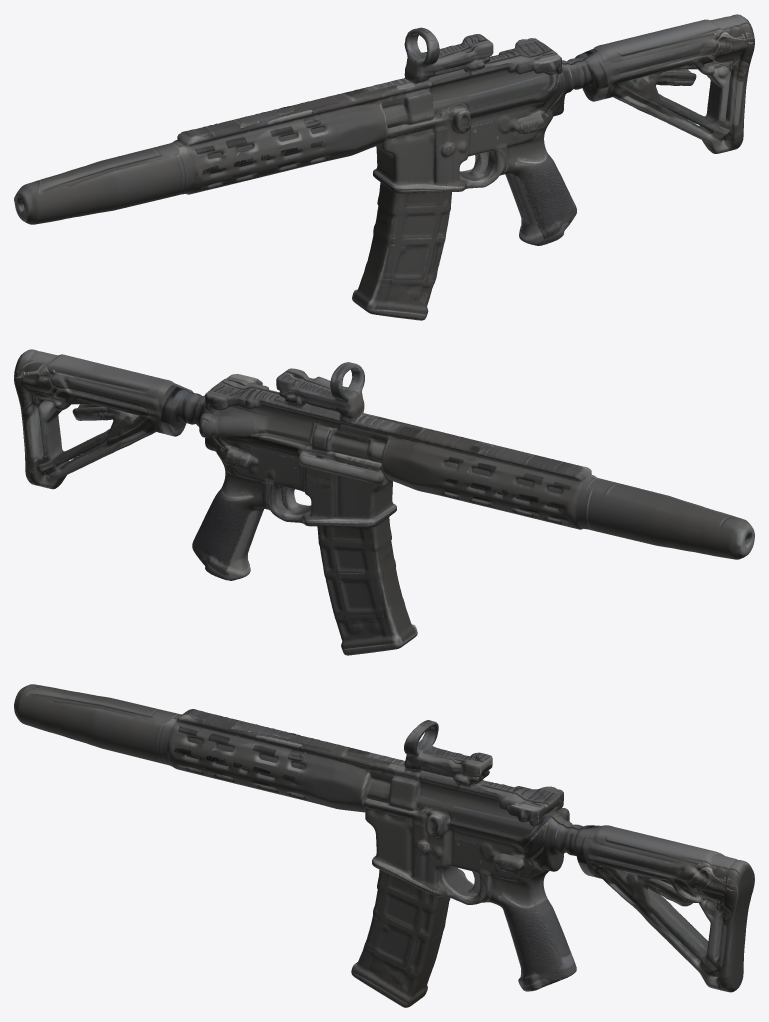
Rendered from veil.glb.
3 views of the same model, one above another, from view 1: azimuth 30°, elevation 25°; view 2: azimuth 150°, elevation 25°; view 3: azimuth 330°, elevation 25° (orthographic).
Parts seen in each view (by area): view 1: tripo_node_92dc638c-8c25-4dfa-adc7-66cf46133f93; view 2: tripo_node_92dc638c-8c25-4dfa-adc7-66cf46133f93; view 3: tripo_node_92dc638c-8c25-4dfa-adc7-66cf46133f93.
Boxes of the visible parts, x1,y1,x2,y2 form: tripo_node_92dc638c-8c25-4dfa-adc7-66cf46133f93: (14, 14, 754, 320); tripo_node_92dc638c-8c25-4dfa-adc7-66cf46133f93: (14, 349, 754, 655); tripo_node_92dc638c-8c25-4dfa-adc7-66cf46133f93: (14, 684, 754, 1007).
Bounding box in the file's own units: 1 × 0.37 × 0.0914.
1 material, 1 textured.
